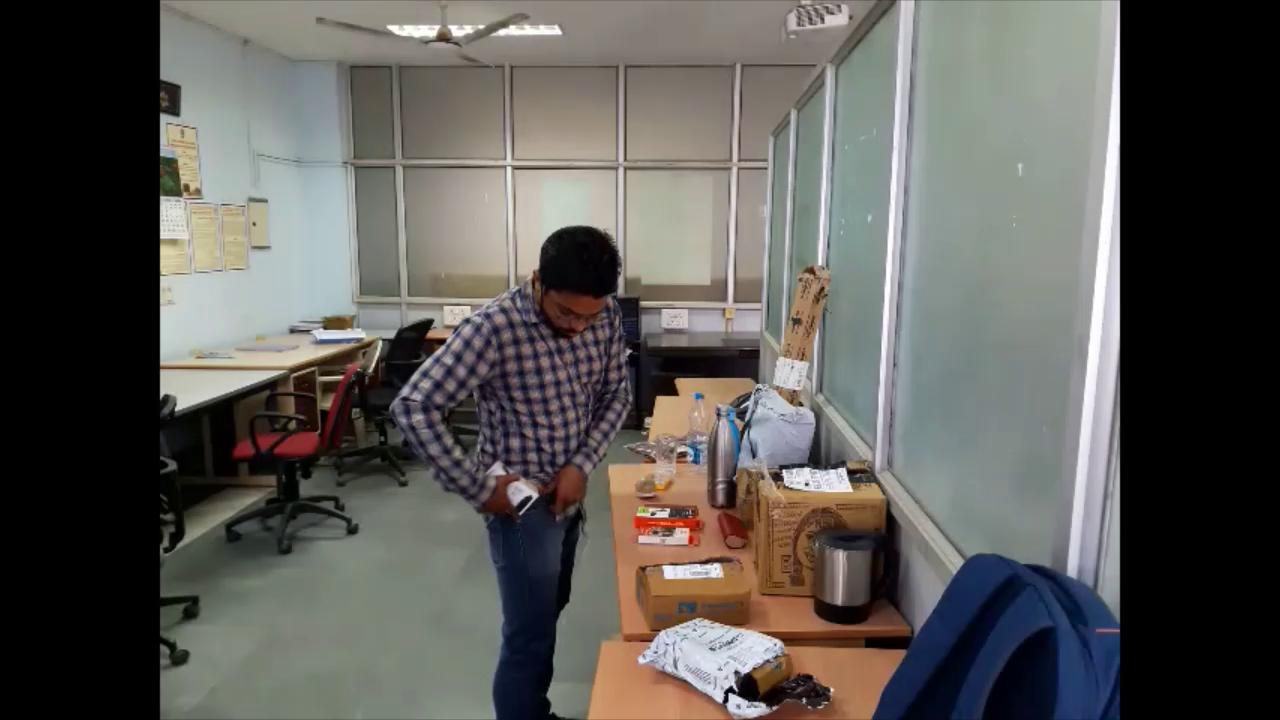shoplifting: (385, 199, 637, 720)
